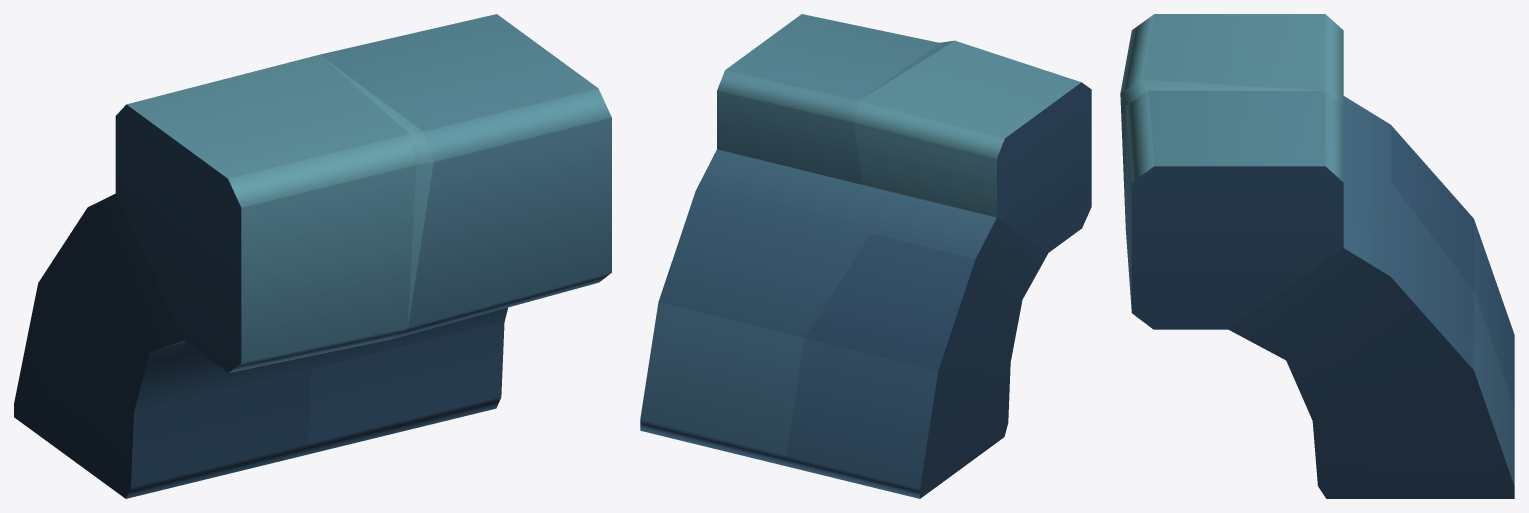
Rendered from wall_element_tileable_2meters_top.fbx.
The picture shows the model from 3 angles, left to right: view 1: azimuth 30°, elevation 25°; view 2: azimuth 150°, elevation 25°; view 3: azimuth 270°, elevation 25°; orthographic projection. The views are drawn at different scales.
Visible parts, largest first — view 1: wall_element_tileable_2meters_top; view 2: wall_element_tileable_2meters_top; view 3: wall_element_tileable_2meters_top.
Boxes of the visible parts, left/top/right/bottom form: wall_element_tileable_2meters_top: left=14, top=14, right=611, bottom=498; wall_element_tileable_2meters_top: left=640, top=14, right=1091, bottom=498; wall_element_tileable_2meters_top: left=1120, top=14, right=1514, bottom=498.
Size of the model in its own units: 200 by 208 by 219.
